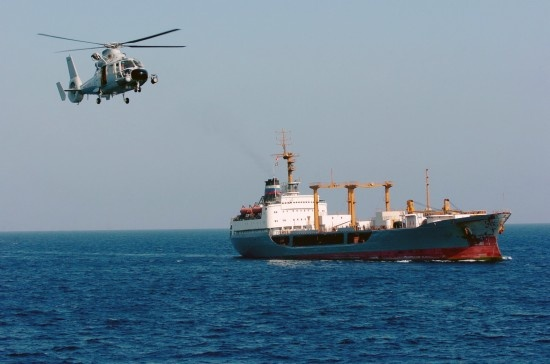Cargoship: (224, 131, 519, 264)
airplane: (31, 23, 186, 111)
